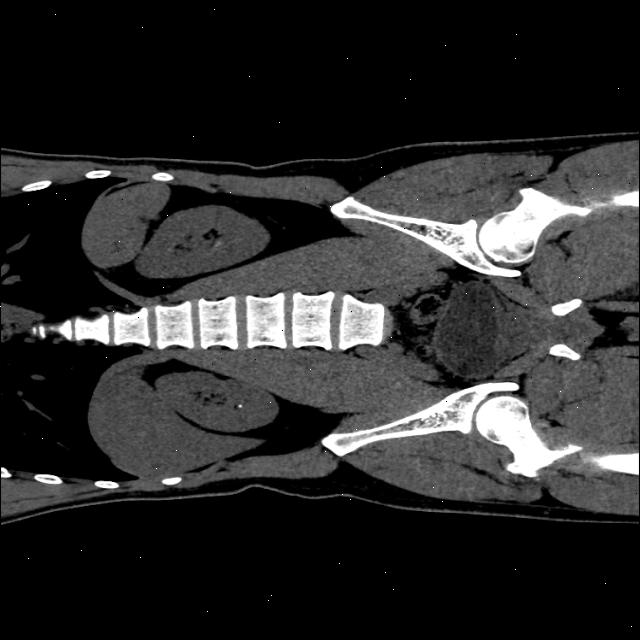kidneystone: (237, 402, 242, 408)
